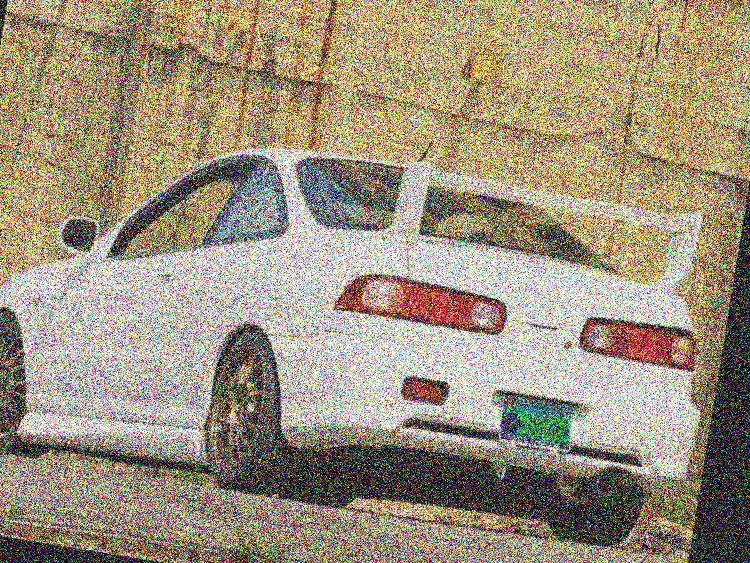car: (0, 84, 742, 563)
